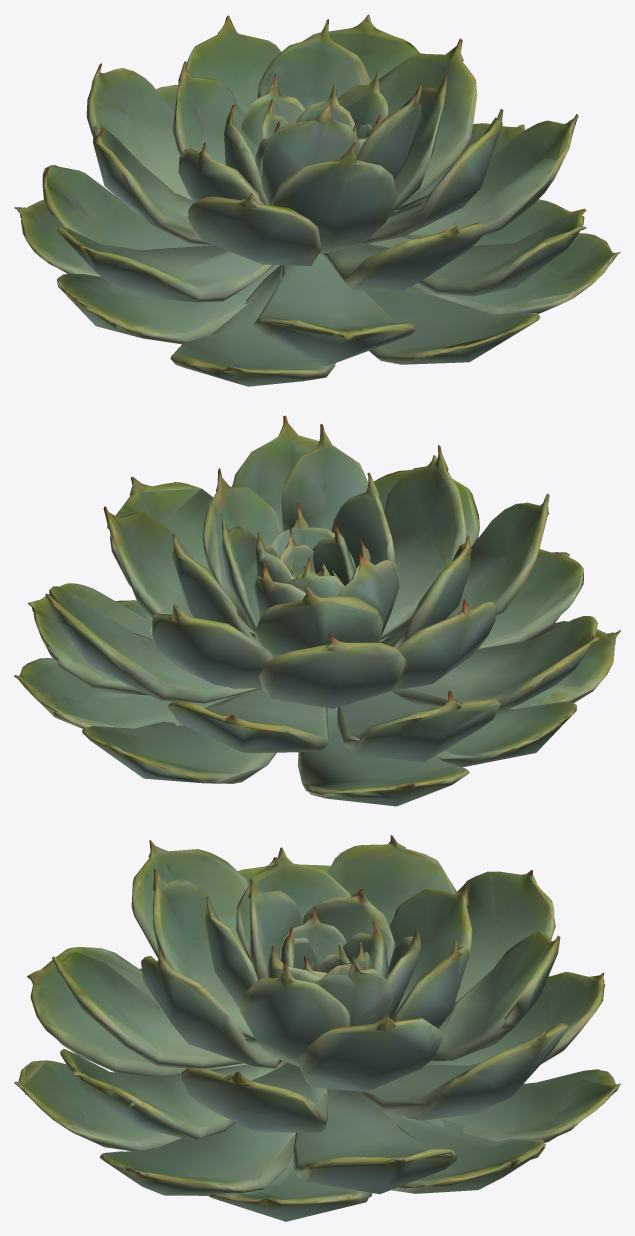
The model's file is YuDieHua.glb.
3 views of the same model, one above another, from view 1: azimuth 30°, elevation 25°; view 2: azimuth 150°, elevation 25°; view 3: azimuth 270°, elevation 25° (orthographic). The views are drawn at different scales.
Visible parts, largest first — view 1: tripo_node_3cb18f9a-af4a-4ba7-969b-8df7ae788165; view 2: tripo_node_3cb18f9a-af4a-4ba7-969b-8df7ae788165; view 3: tripo_node_3cb18f9a-af4a-4ba7-969b-8df7ae788165.
Boxes of the visible parts, x1,y1,x2,y2 form: tripo_node_3cb18f9a-af4a-4ba7-969b-8df7ae788165: (14,14,620,386); tripo_node_3cb18f9a-af4a-4ba7-969b-8df7ae788165: (14,415,620,806); tripo_node_3cb18f9a-af4a-4ba7-969b-8df7ae788165: (14,835,620,1221).
Bounding box in the file's own units: 0.998 × 0.4707 × 0.998.
Materials: 1 (1 with a texture image).
